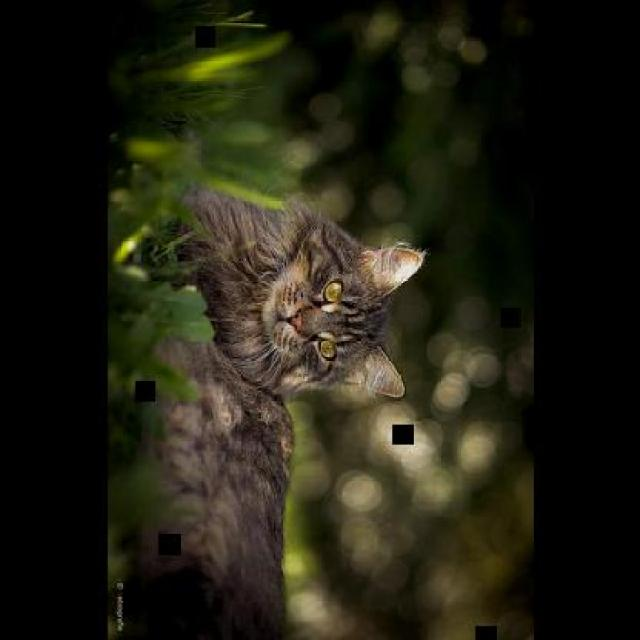unauthorized: (117, 183, 428, 639)
